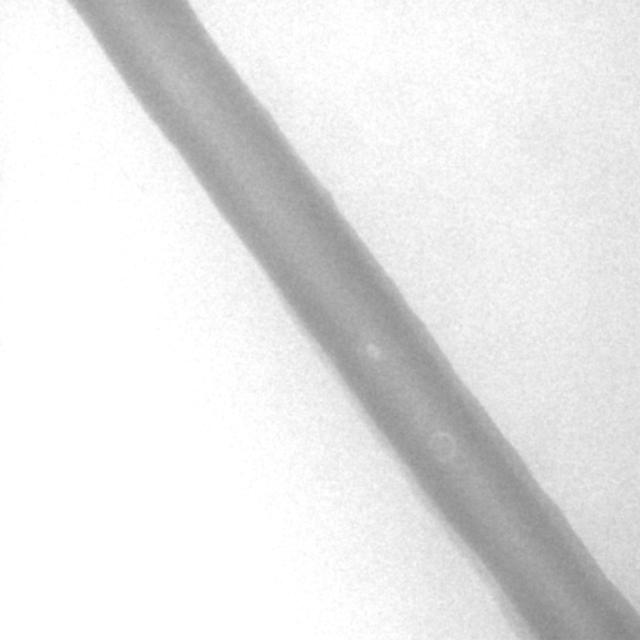hollow bead: (426, 431, 456, 467)
